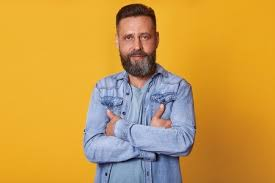white_male: (118, 13, 155, 75)
